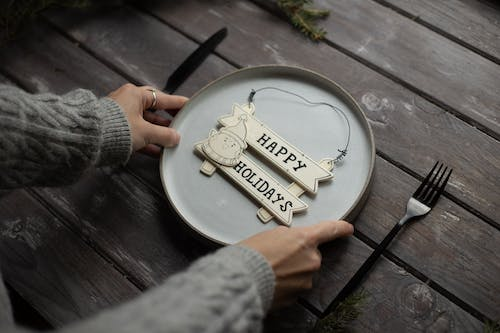knife: (161, 25, 229, 96)
